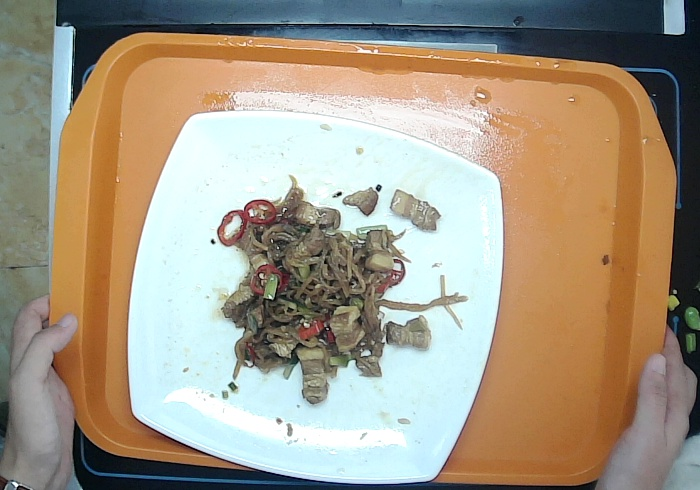ZNLD-Bai_Fang_Pan: (118, 103, 512, 490)
